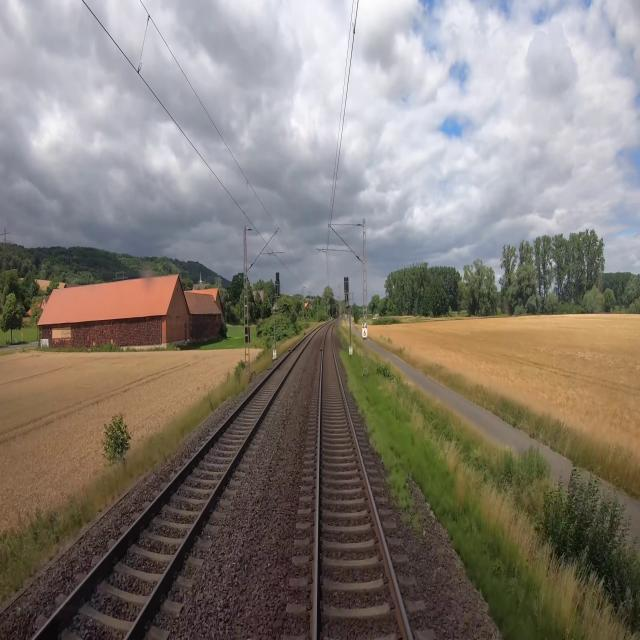Plant: (338, 347, 422, 532)
